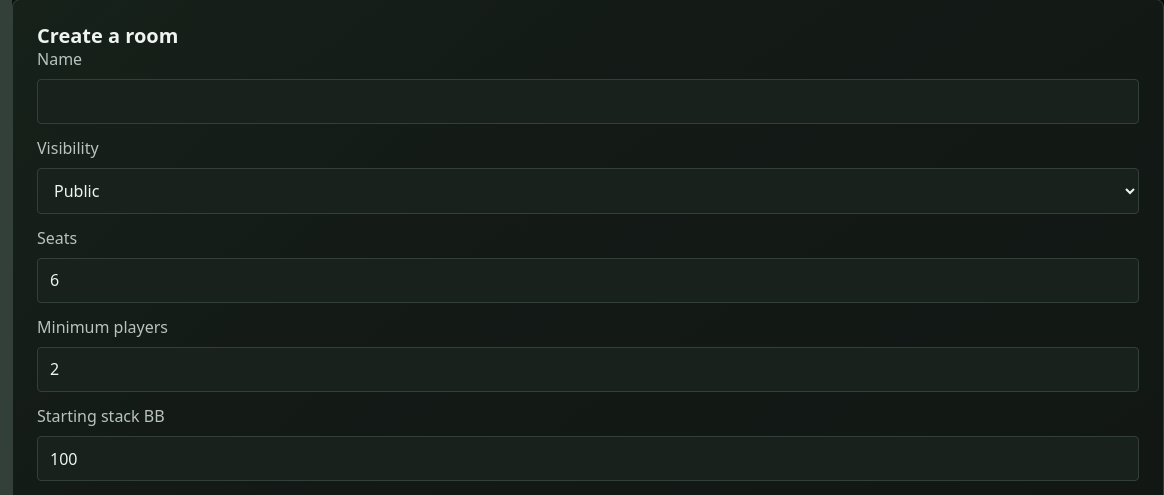
RoomsPage › loads public rooms and creates a room through the API
Type "New Table" into the field labelled "Name" at (588, 102), box [37,79,1139,124]
(page scrolled)
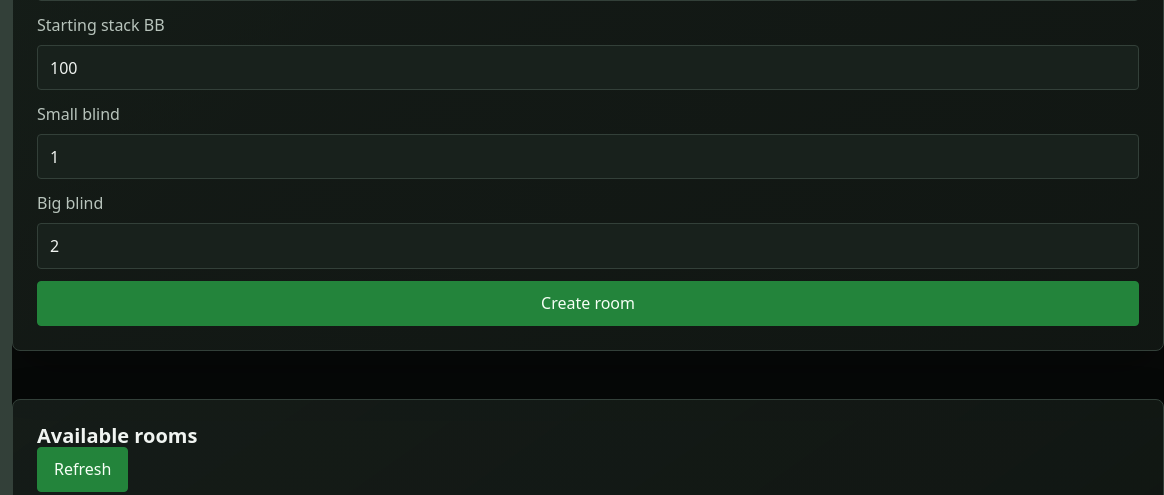
Click the button "Create room" at (588, 303), box [37,280,1139,326]
(page scrolled)
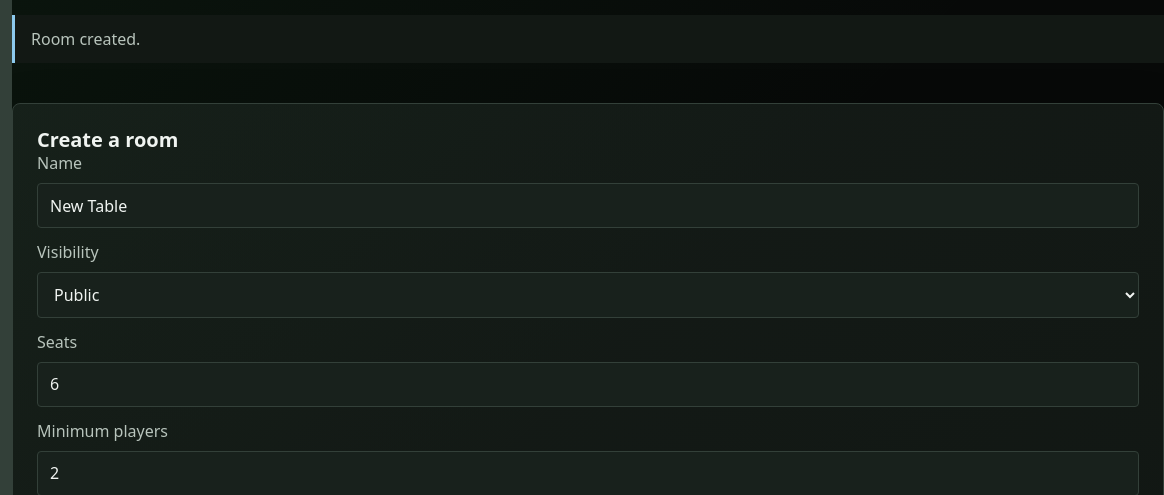
Expected: the message reads "Room created.", [31,28,140,50]
